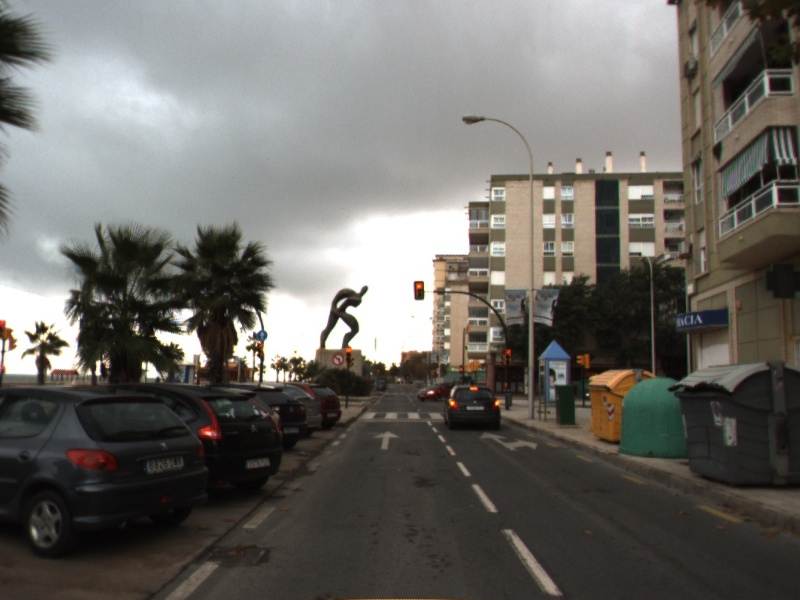STRAIGHT: (372, 429, 402, 451)
STRAIGHT_RIGHT: (478, 430, 540, 452)
